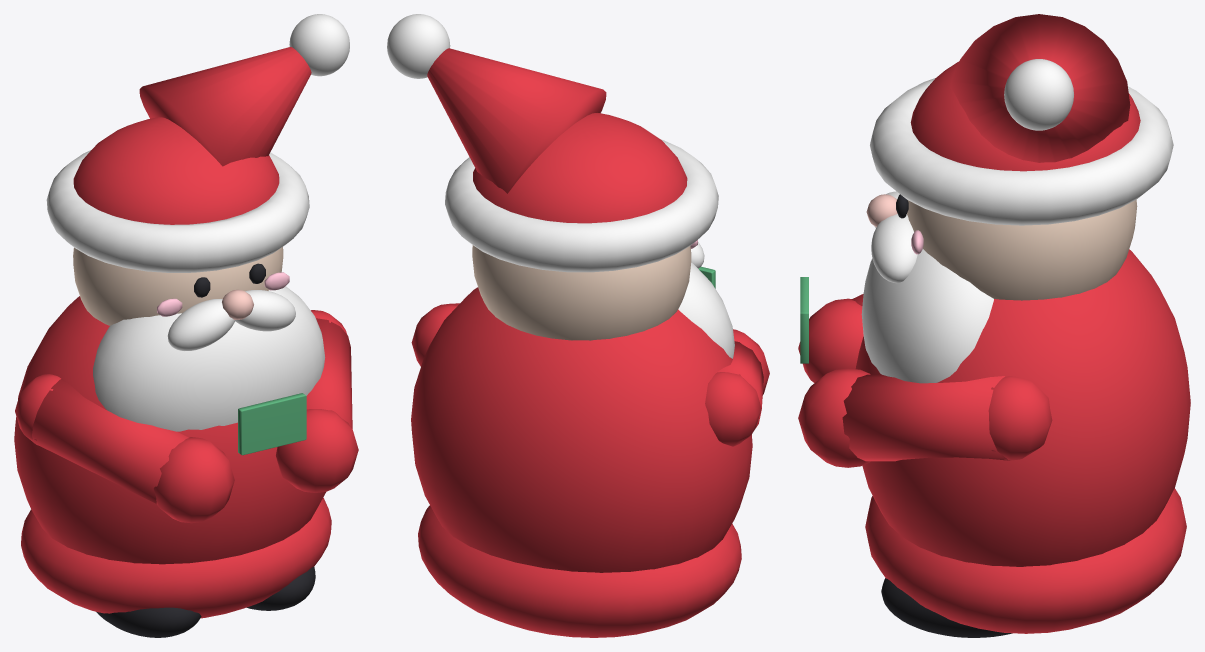
The model's file is subway.glb.
3 views of the same model, side by side, from view 1: azimuth 30°, elevation 25°; view 2: azimuth 150°, elevation 25°; view 3: azimuth 270°, elevation 25° (orthographic). The views are drawn at different scales.
Parts seen in each view (by area): view 1: subway_red, subway_white, subway_skin, subway_black, subway_green, subway_nose, subway_pink; view 2: subway_red, subway_white, subway_skin; view 3: subway_red, subway_white, subway_skin, subway_black, subway_green, subway_nose.
Boxes of the visible parts, x1,y1,x2,y2 form: subway_red: (14, 47, 358, 618); subway_white: (46, 14, 349, 431); subway_skin: (73, 247, 283, 325); subway_black: (96, 263, 315, 637); subway_green: (238, 393, 306, 455); subway_nose: (222, 289, 253, 319); subway_pink: (157, 272, 289, 316); subway_red: (411, 48, 769, 637); subway_white: (387, 14, 734, 358); subway_skin: (472, 245, 691, 340); subway_red: (798, 14, 1190, 633); subway_white: (861, 59, 1173, 383); subway_skin: (907, 199, 1137, 300); subway_black: (881, 194, 1012, 637); subway_green: (800, 277, 808, 363); subway_nose: (866, 194, 897, 227).
Size of the model in its own units: 2.08 by 3.16 by 1.81.
